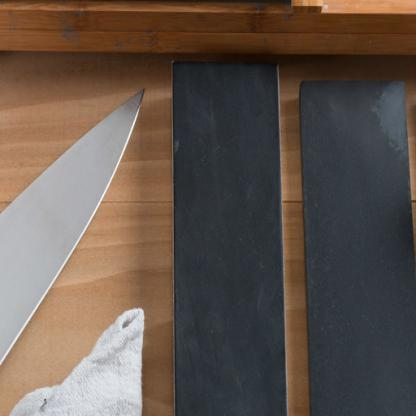knife: (0, 85, 146, 415)
